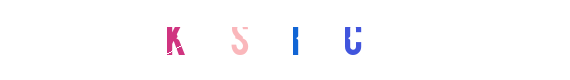C: (291, 0, 371, 80)
I: (245, 0, 325, 80)
K: (133, 0, 213, 80)
S: (195, 0, 275, 80)
